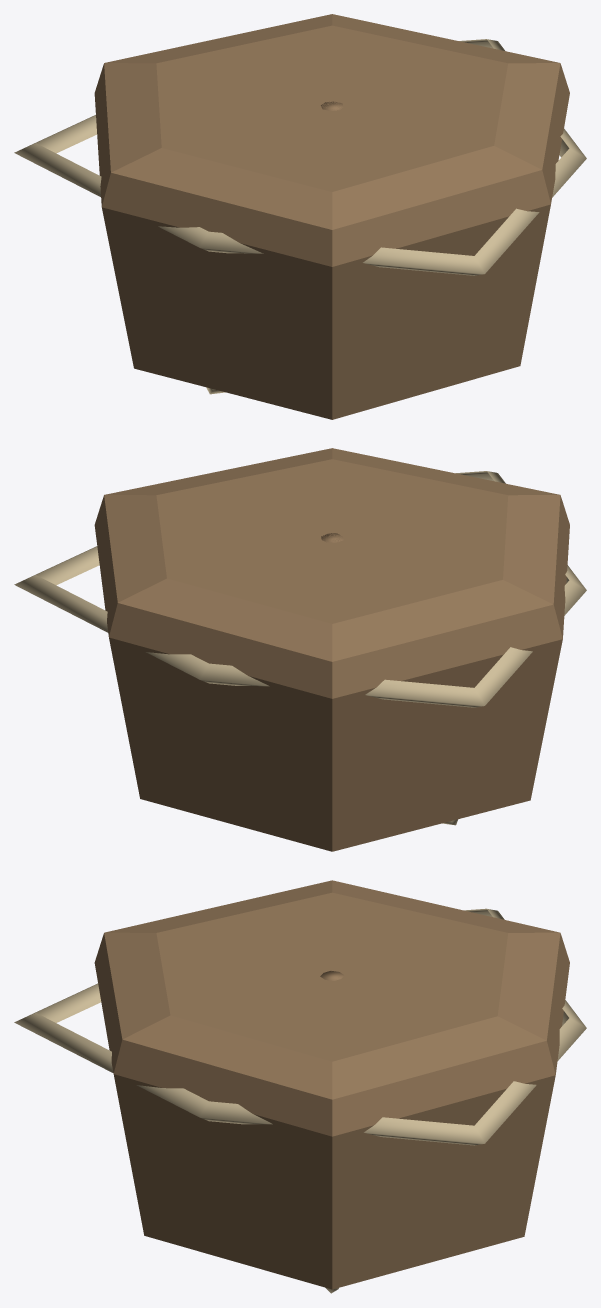
Rendered from climb_kit.6b97c56a.glb.
3 renders of one model, top to bottom at view 1: azimuth 30°, elevation 25°; view 2: azimuth 150°, elevation 25°; view 3: azimuth 270°, elevation 25°, orthographic.
Parts seen in each view (by area): view 1: climb_stake; view 2: climb_stake; view 3: climb_stake.
Part boxes in pixels (x1,y1,x2,y2): climb_stake: (14, 14, 586, 419); climb_stake: (14, 448, 586, 851); climb_stake: (14, 880, 586, 1289).
Size of the model in its own units: 2.01 by 1.08 by 2.09.
